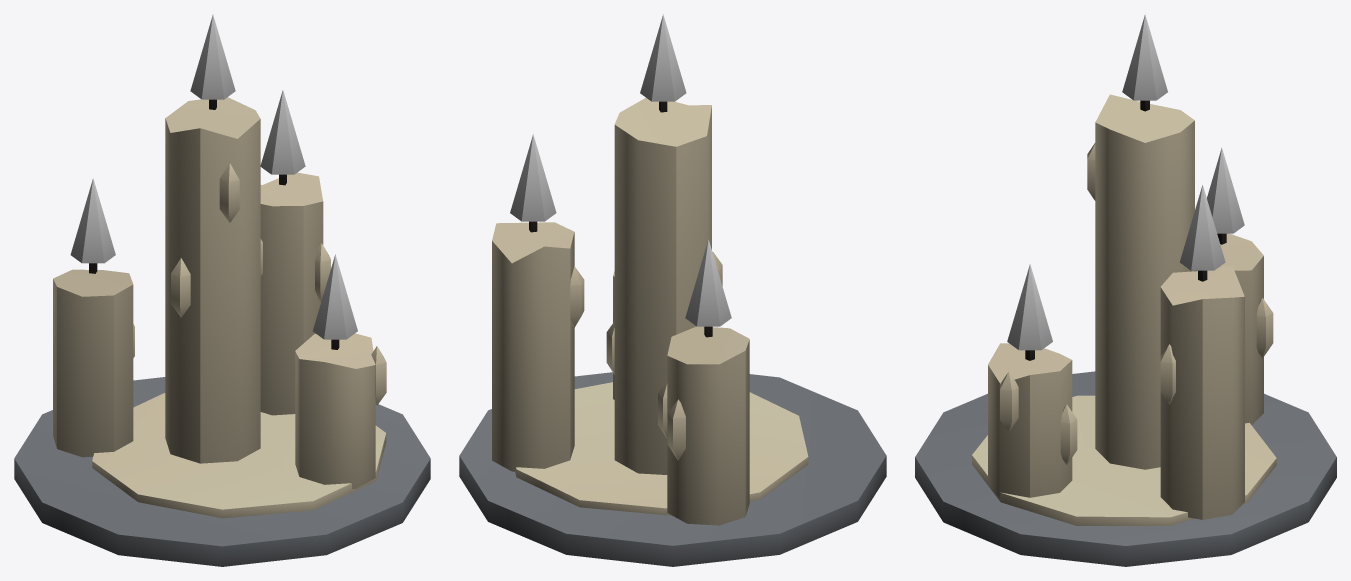
The model's file is ph_int_candles.glb.
3 views of the same model, side by side, from view 1: azimuth 30°, elevation 25°; view 2: azimuth 150°, elevation 25°; view 3: azimuth 270°, elevation 25° (orthographic). The views are drawn at different scales.
Visible parts, largest first — view 1: ph_int_candles; view 2: ph_int_candles; view 3: ph_int_candles.
Part boxes in pixels (<box>): ph_int_candles: <box>14,14,430,566</box>; ph_int_candles: <box>459,14,886,566</box>; ph_int_candles: <box>915,14,1336,566</box>.
Bounding box in the file's own units: 0.22 × 0.267 × 0.22.
